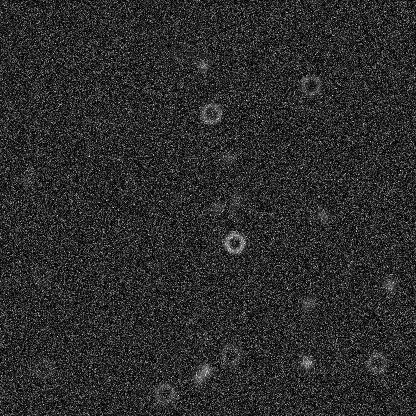Ring: (365, 351, 389, 375), (169, 39, 193, 63), (218, 342, 242, 366), (222, 230, 246, 254), (298, 73, 322, 97), (199, 101, 223, 125), (30, 263, 54, 287), (31, 356, 55, 380), (152, 381, 176, 405)
Spot: (220, 149, 236, 165), (20, 167, 36, 183), (197, 362, 213, 378), (190, 370, 206, 386), (386, 27, 402, 43), (313, 206, 329, 222), (227, 193, 243, 209), (381, 183, 397, 199), (298, 354, 314, 370), (208, 198, 224, 214), (382, 276, 398, 292), (194, 57, 210, 73), (299, 295, 315, 311)
